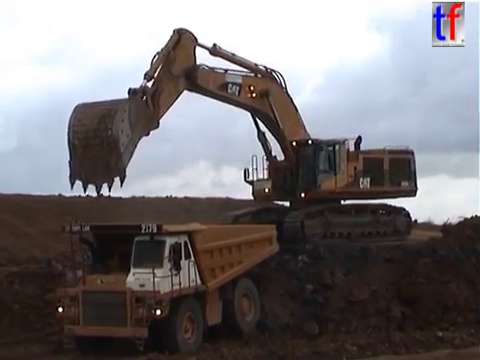excavator: (63, 25, 421, 251)
truck: (46, 219, 282, 355)
